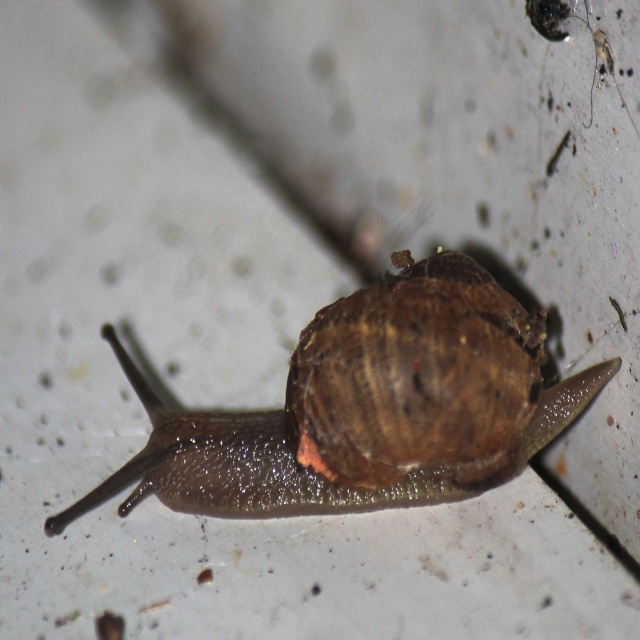Snail: (44, 249, 621, 533)
